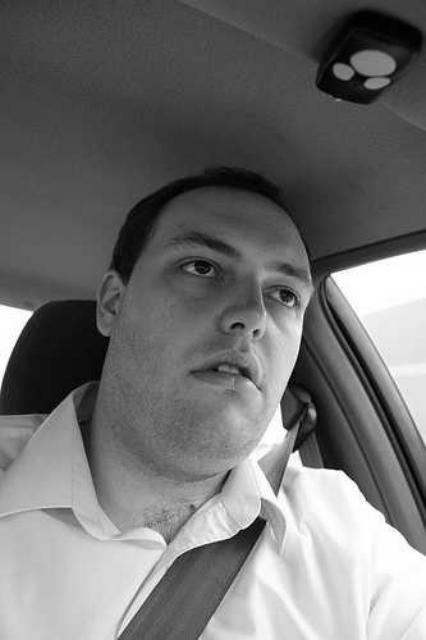SafeDriving: (254, 266, 311, 316), (168, 244, 228, 286)
Seatbelt: (107, 388, 317, 640)
